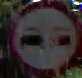No overtake: (8, 0, 78, 69)
